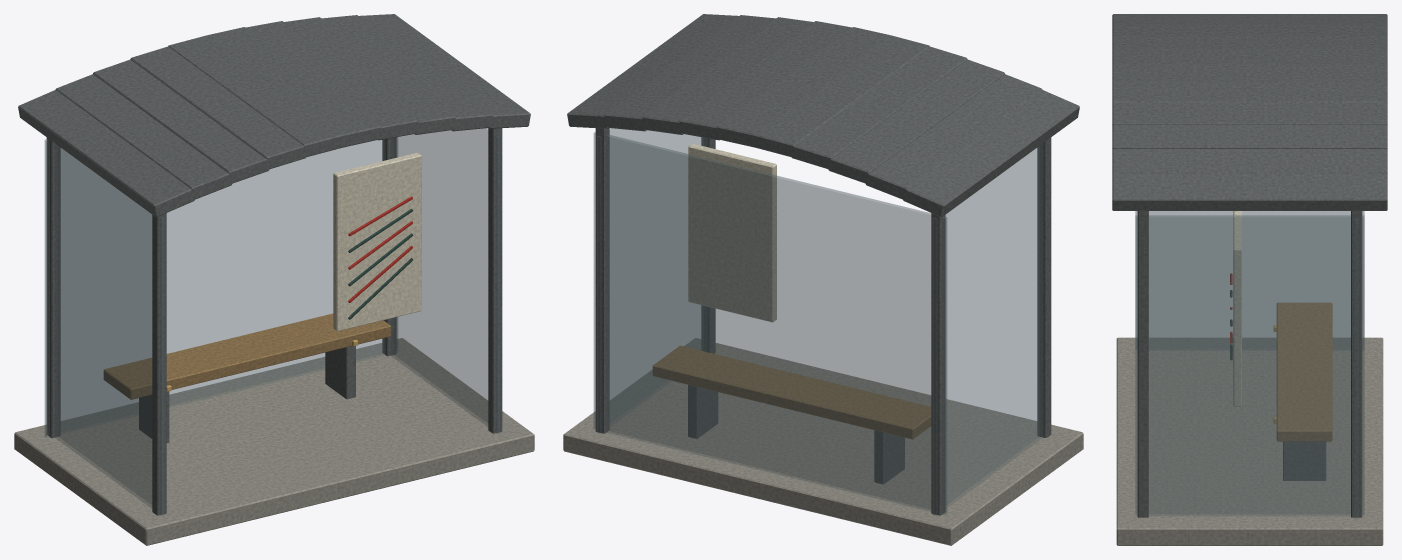
File: BUSSTOP2_lod0.glb
3 renders of one model, left to right at view 1: azimuth 30°, elevation 25°; view 2: azimuth 150°, elevation 25°; view 3: azimuth 270°, elevation 25°, orthographic.
Visible parts, largest first — view 1: BUSSTOP2_LOD0; view 2: BUSSTOP2_LOD0; view 3: BUSSTOP2_LOD0.
Part boxes in pixels (x1,y1,x2,y2): BUSSTOP2_LOD0: [14, 14, 534, 545]; BUSSTOP2_LOD0: [563, 14, 1083, 545]; BUSSTOP2_LOD0: [1112, 14, 1387, 545].
Size of the model in its own units: 3.65 by 3.28 by 2.22.
Materials: 8 (6 with a texture image).
